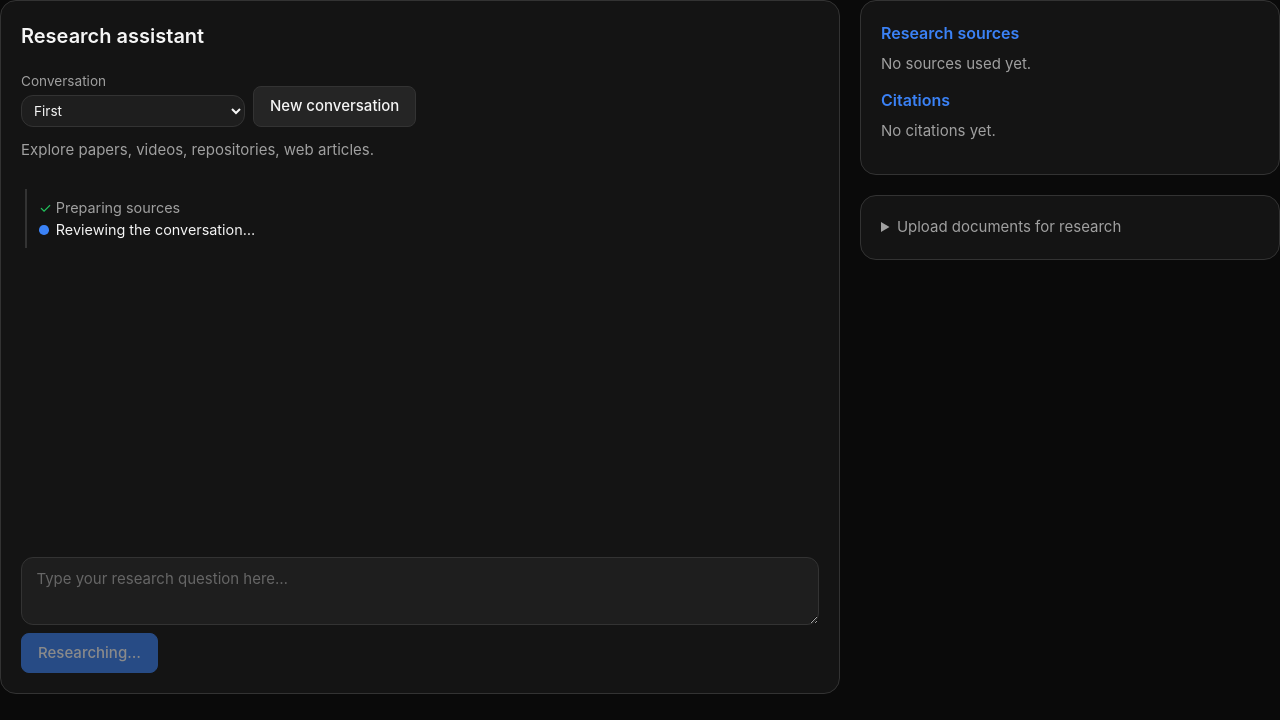
conversation views › detaches on navigation, scopes progress, and resumes from the last consumed sequence
expect the list item "Preparing sources" is shown: met, box top-left (56, 199), bottom-right (180, 216)
Select "Second" in the dropdown labelled "Conversation". click: (133, 111)
box: top-left (21, 95), bottom-right (245, 127)
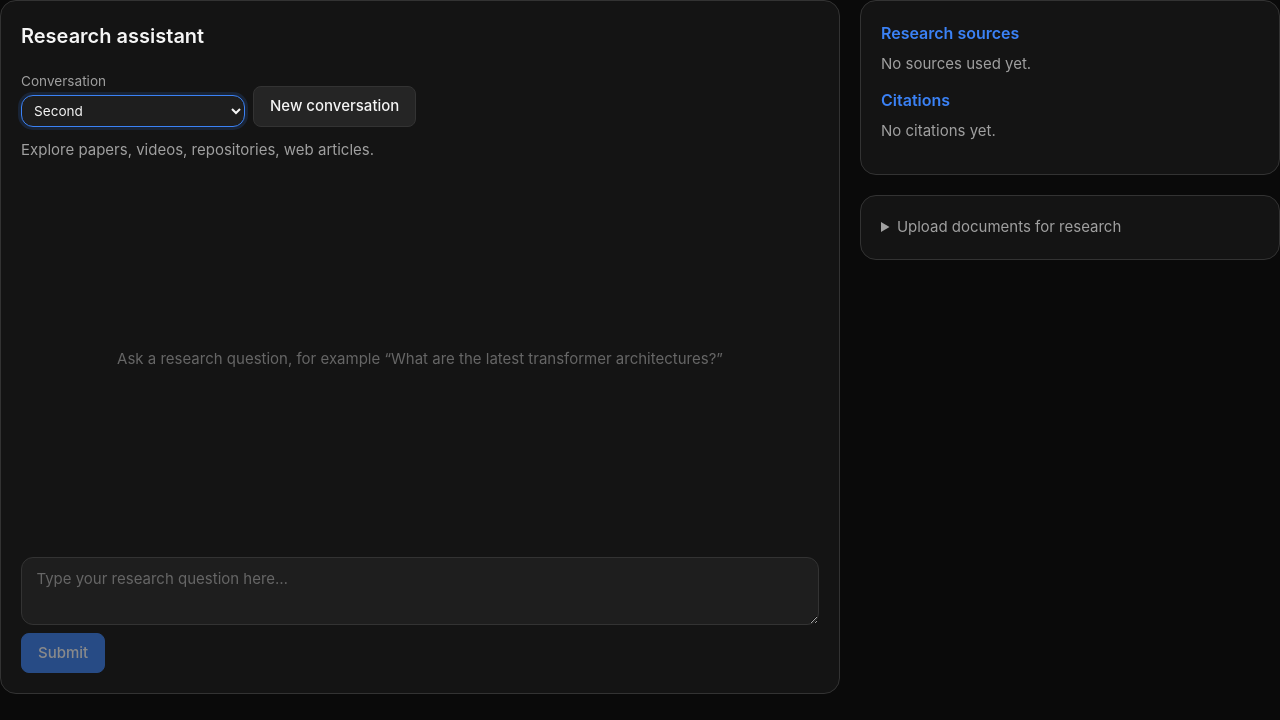
expect the button "Submit" is shown: met, box top-left (21, 633), bottom-right (105, 673)
expect the list item "Preparing sources" is gone: met
Select "First" in the dropdown labelled "Conversation". click: (133, 111)
box: top-left (21, 95), bottom-right (245, 127)
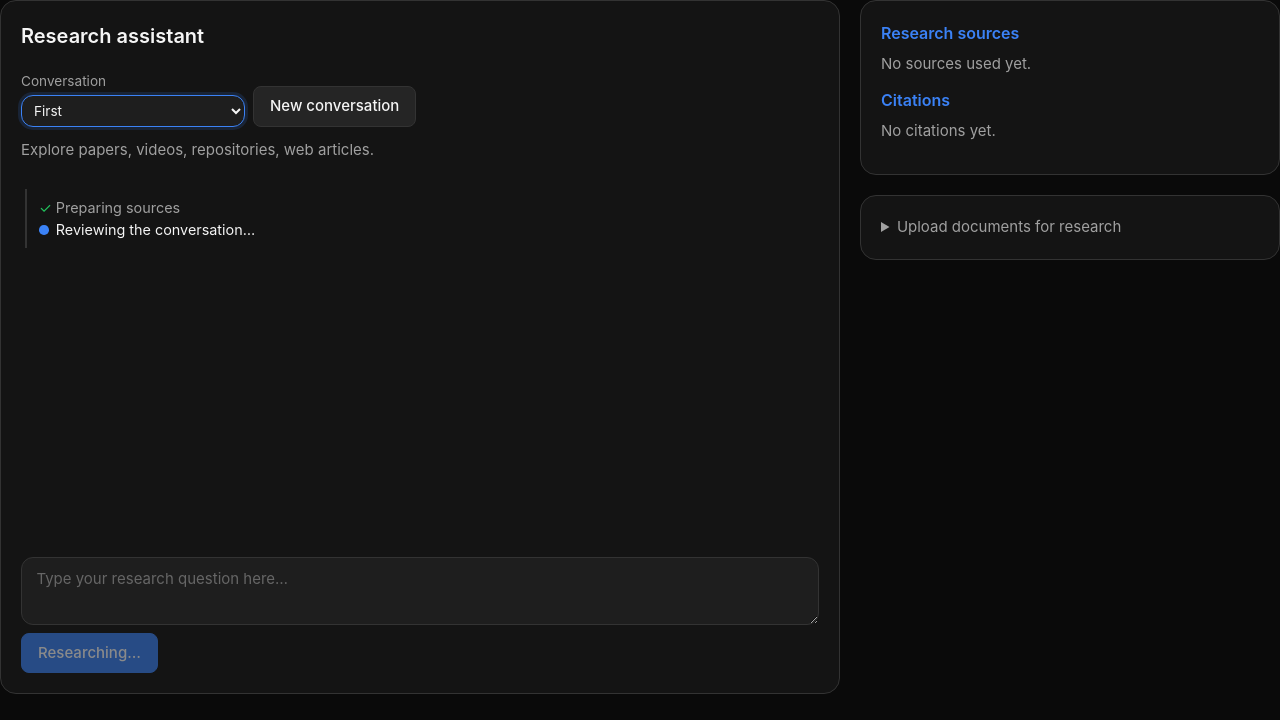
expect the list item "Preparing sources" is shown: met, box top-left (56, 199), bottom-right (180, 216)
